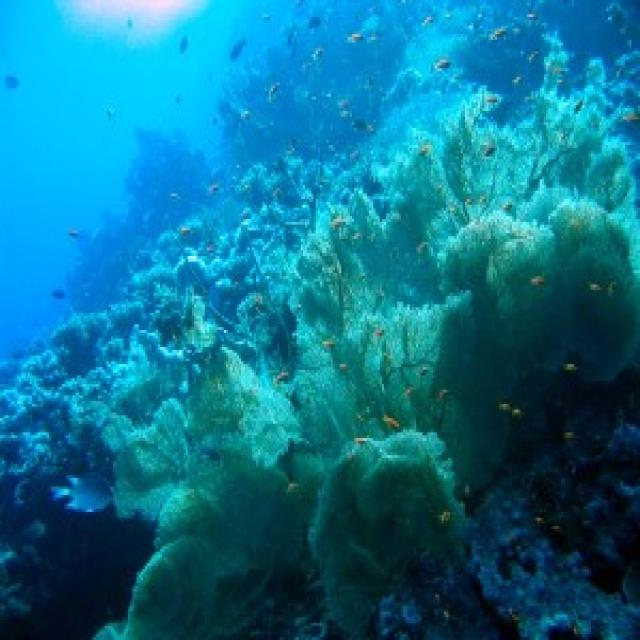Healthy: (80, 35, 639, 638)
